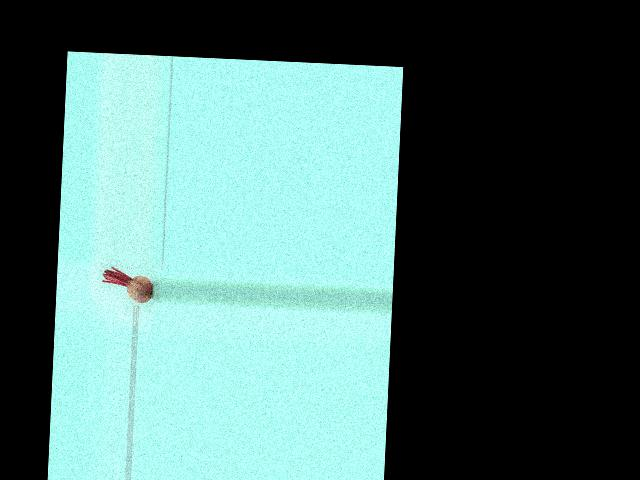beet: (102, 266, 153, 304)
